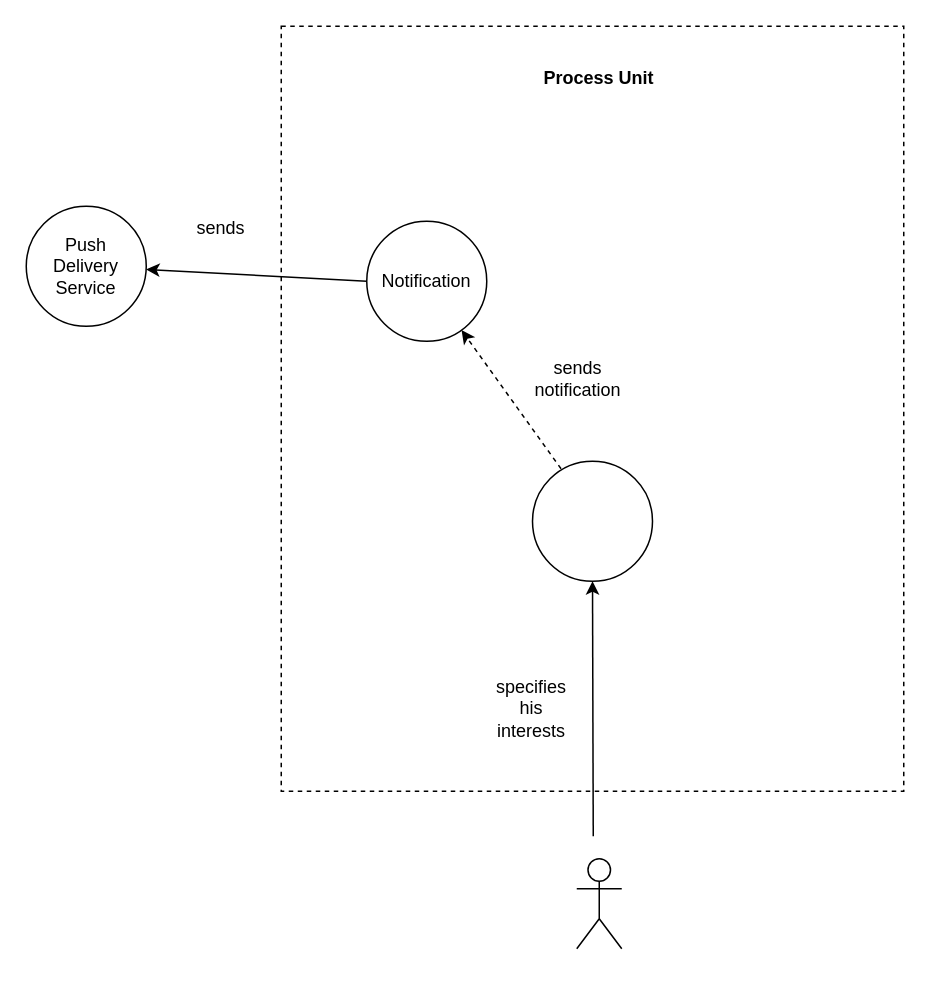
This 930x1007 diagram has some shape labels left out. Here are the shapes that lost their labels. From the top down, the box of each, then its label:
(531, 460, 652, 581): News
(575, 857, 622, 949): Actor
